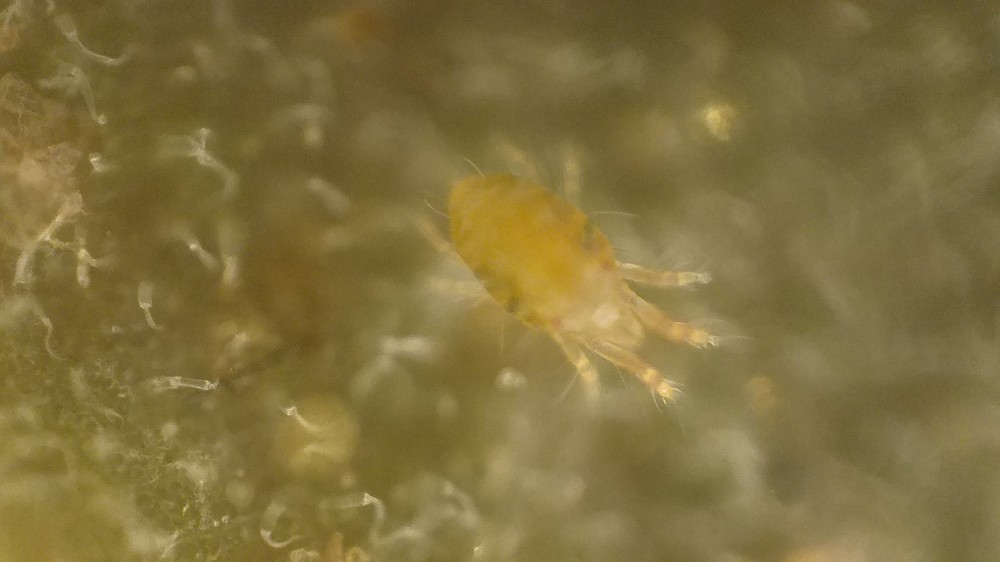Aracnido Rojo: (401, 127, 744, 433)
